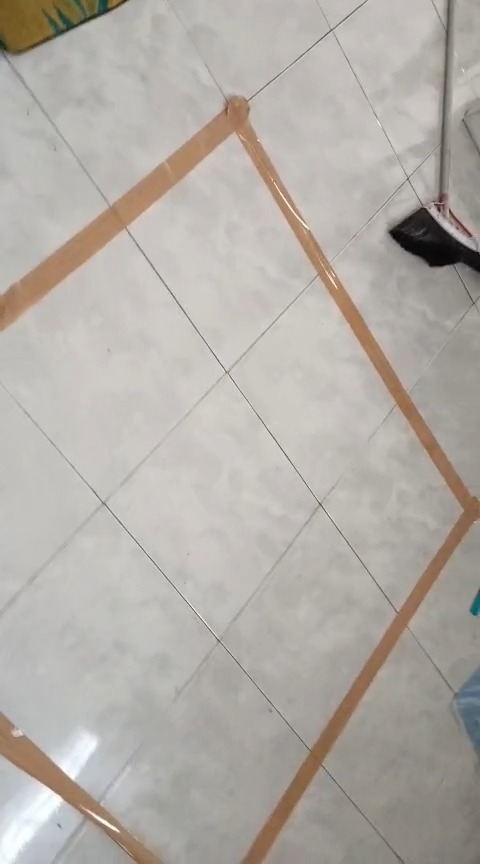floor marking: (0, 97, 479, 863), (0, 712, 163, 863)
